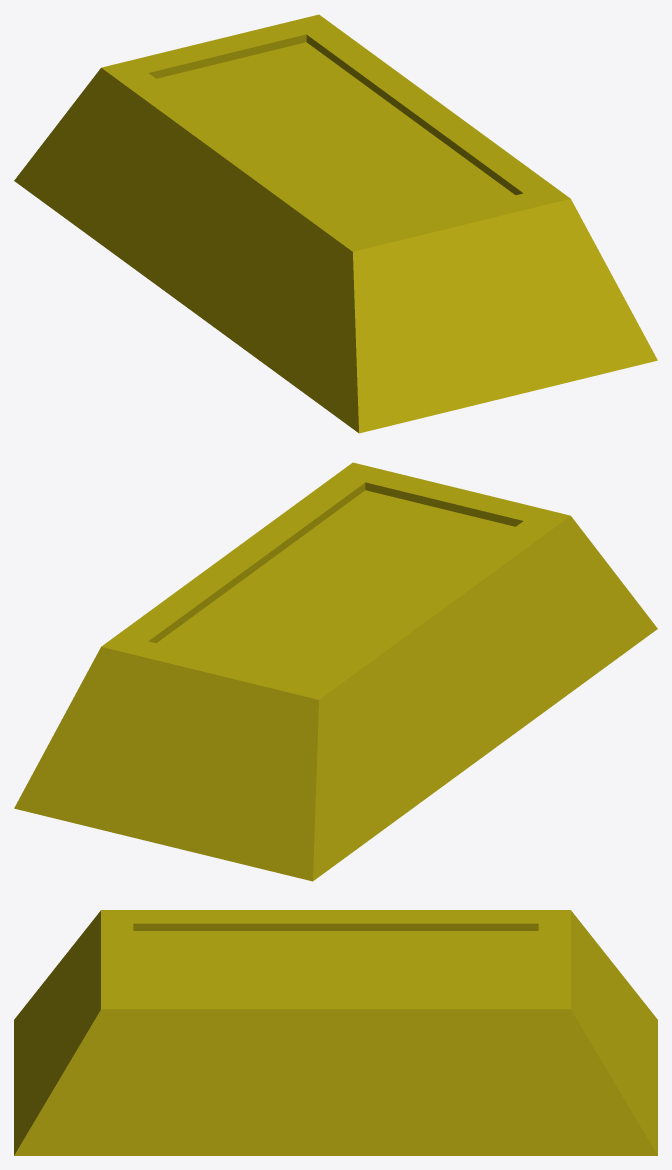
The model's file is Золотой слиток.FBX.
3 views of the same model, one above another, from view 1: azimuth 30°, elevation 25°; view 2: azimuth 150°, elevation 25°; view 3: azimuth 270°, elevation 25° (orthographic). The views are drawn at different scales.
Parts seen in each view (by area): view 1: Box001; view 2: Box001; view 3: Box001.
Part boxes in pixels (x1,y1,x2,y2): Box001: (14, 14, 657, 433); Box001: (14, 462, 657, 881); Box001: (14, 910, 657, 1155).
Size of the model in its own units: 20 by 8.79 by 40.
